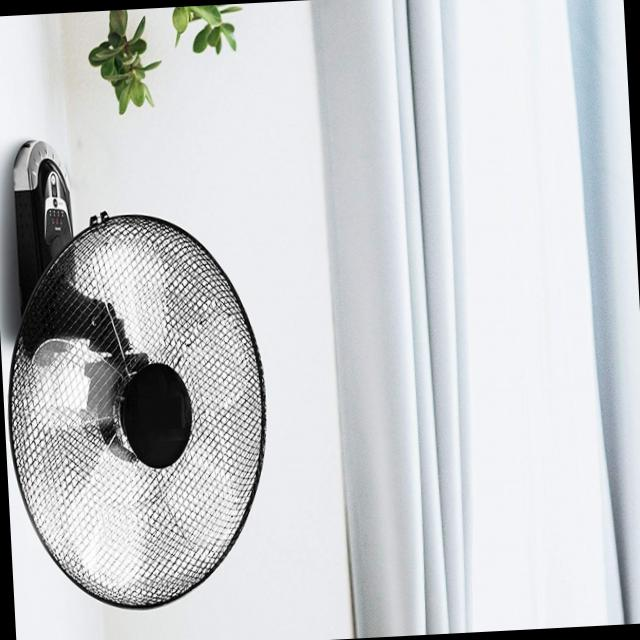fan: (0, 121, 290, 618)
